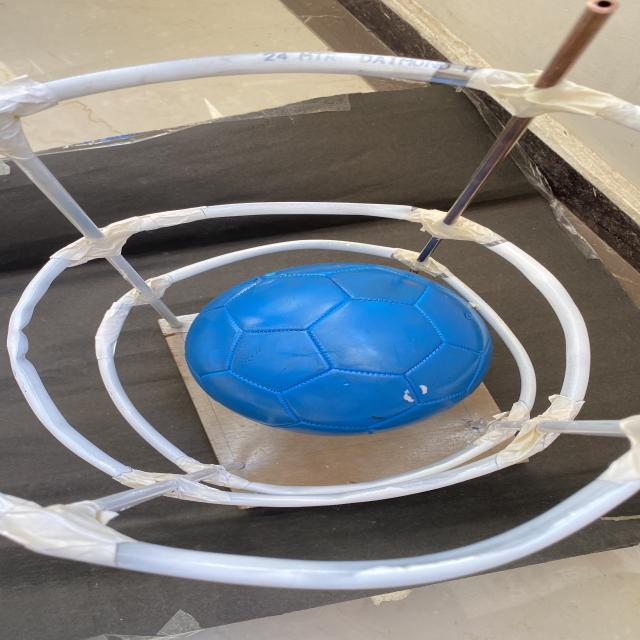blue_ball: (184, 260, 491, 432)
silo: (0, 41, 640, 584)
